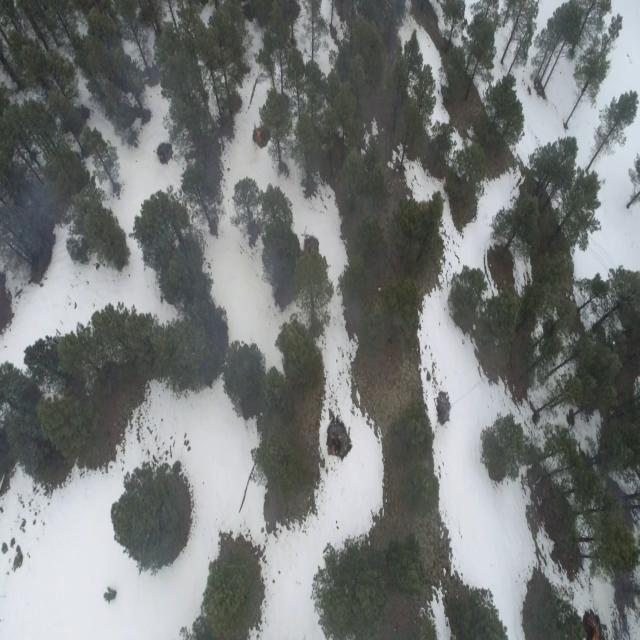Fire: (588, 619, 608, 640), (254, 124, 265, 146)
Smoke: (2, 69, 460, 437)
